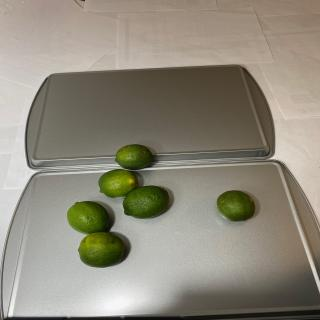Lemon: (78, 232, 125, 268), (122, 185, 170, 219), (66, 200, 110, 234), (216, 190, 256, 221), (98, 169, 139, 198), (114, 144, 153, 170)
